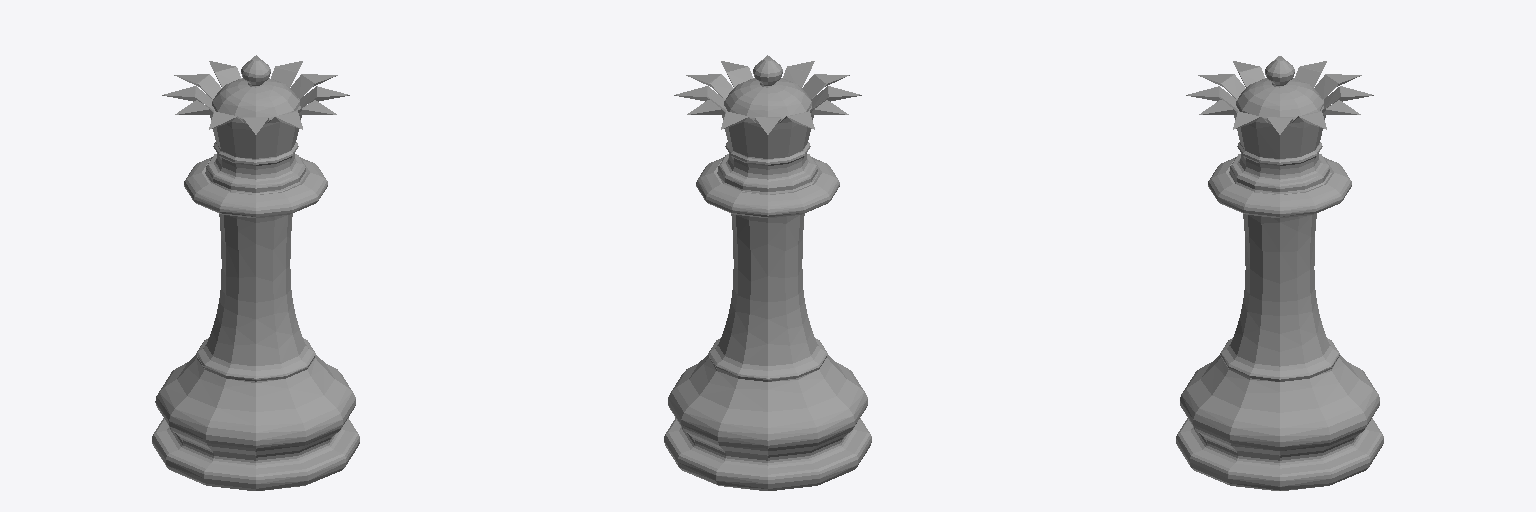
Rendered from QueenNewSimplificat.obj.
3 views of the same model, side by side, from view 1: azimuth 30°, elevation 25°; view 2: azimuth 150°, elevation 25°; view 3: azimuth 270°, elevation 25° (orthographic).
Visible parts, largest first — view 1: mesh01.009; view 2: mesh01.009; view 3: mesh01.009.
Part boxes in pixels (x1,y1,x2,y2): mesh01.009: (152,55,359,490); mesh01.009: (664,55,871,490); mesh01.009: (1176,56,1383,490).
Size of the model in its own units: 1.51 by 3.14 by 1.51.